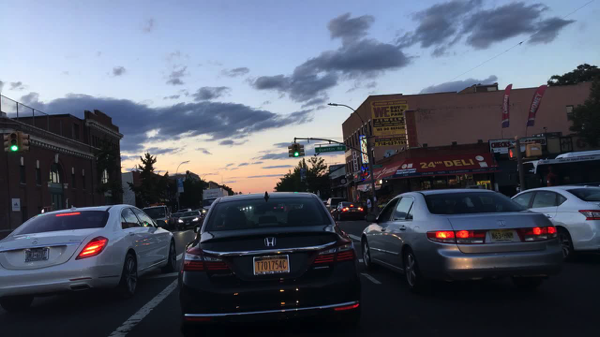bus: (517, 151, 598, 191)
car: (179, 190, 363, 337), (359, 189, 562, 289), (0, 202, 179, 303), (507, 183, 599, 263), (330, 202, 365, 219), (176, 211, 204, 229), (327, 197, 350, 211), (171, 213, 182, 225), (199, 207, 204, 218), (323, 200, 329, 209), (177, 209, 188, 212)
person: (366, 198, 373, 216)
traffic light: (20, 133, 32, 153), (525, 144, 542, 156), (506, 145, 518, 162), (10, 132, 18, 153), (3, 134, 9, 153), (292, 143, 299, 158), (39, 206, 52, 214), (375, 178, 385, 186), (286, 145, 292, 157), (301, 145, 306, 159)
traffic sign: (315, 144, 345, 153), (372, 163, 383, 169)
truck: (142, 203, 171, 230), (200, 188, 228, 214)
